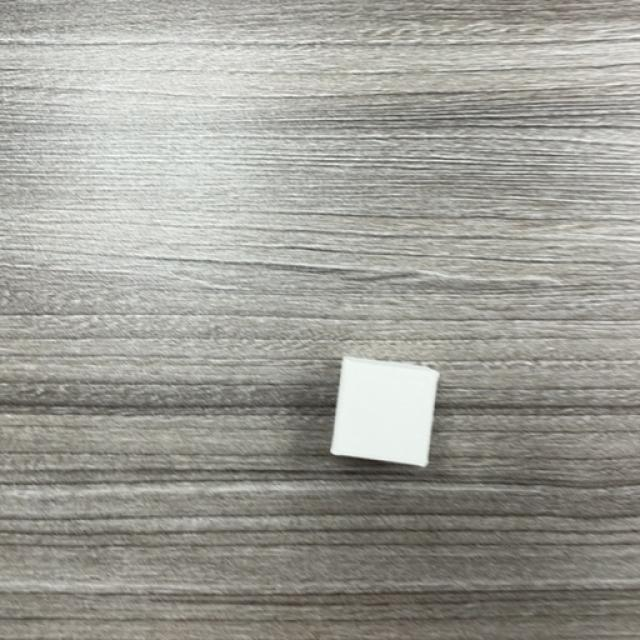Blanco: (329, 355, 439, 470)
